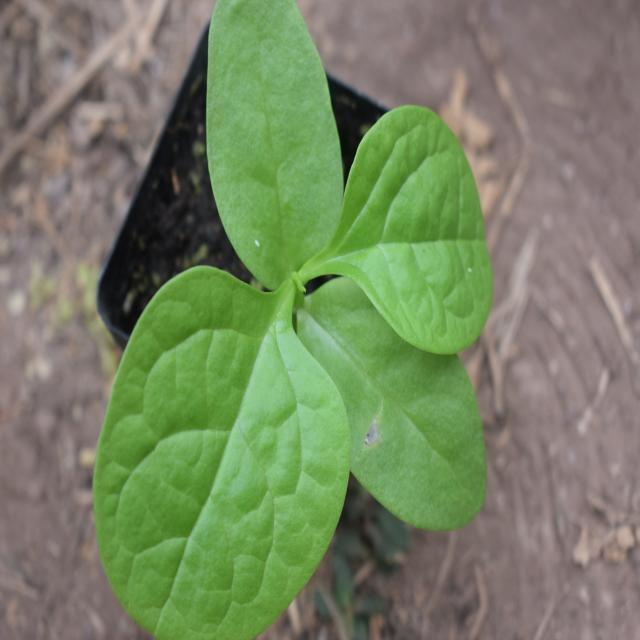Ceylon spinach: (94, 3, 493, 634)
